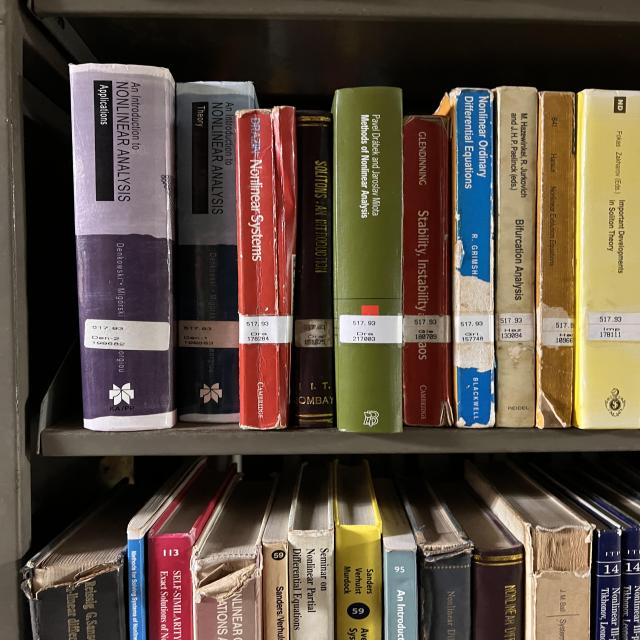Book: (70, 64, 177, 431), (175, 81, 257, 422), (332, 86, 403, 432), (575, 89, 640, 429), (237, 106, 297, 430), (438, 88, 495, 429), (403, 115, 453, 426), (493, 86, 538, 428), (292, 110, 335, 428), (537, 91, 575, 429)
Label: (83, 319, 170, 351), (338, 315, 402, 344), (178, 320, 238, 349), (238, 315, 293, 344), (587, 312, 640, 341), (403, 315, 450, 342), (295, 319, 333, 348), (455, 315, 493, 342), (498, 312, 533, 341), (542, 318, 573, 346)
